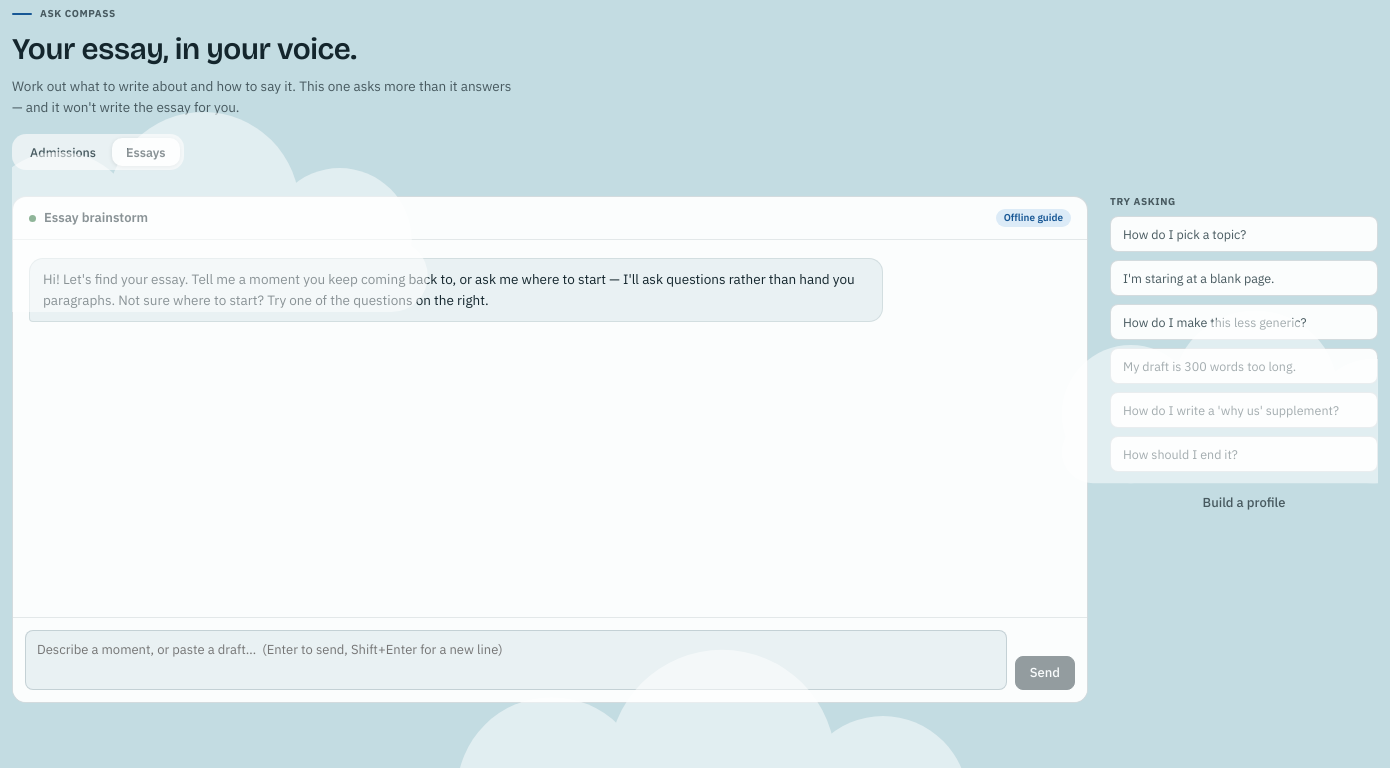
Test case: sending › shows the answer in the thread
Click the button "How do I pick a topic?".
click(1244, 234)  # box 1110,216 -> 1378,252
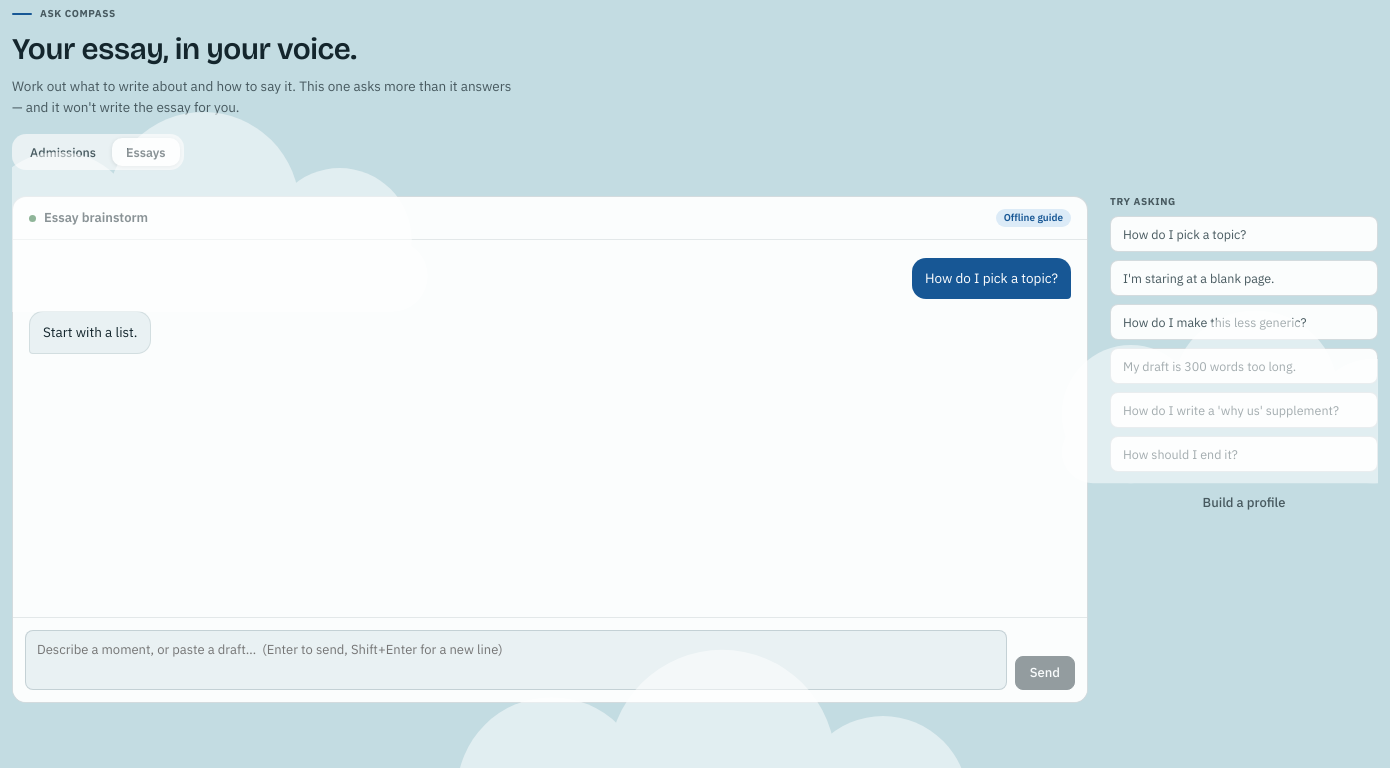
Expected: the text "Start with a list." is shown, 29,311 -> 151,354
